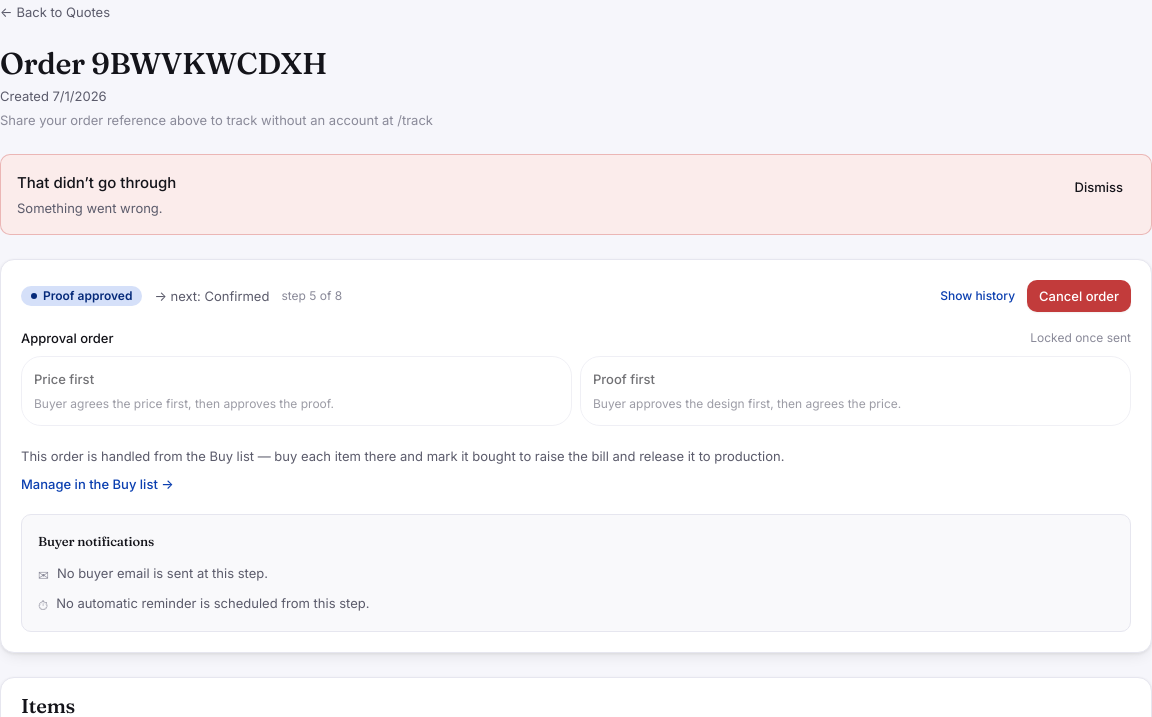
Test case: dismisses the inline write error without touching the order
Expected: the message "That didn’t go through Something went wrong. Dismiss" is shown, [0, 154, 1151, 235]
Step 1. Click the button "Dismiss" → (1099, 187), box [1062, 171, 1135, 203]
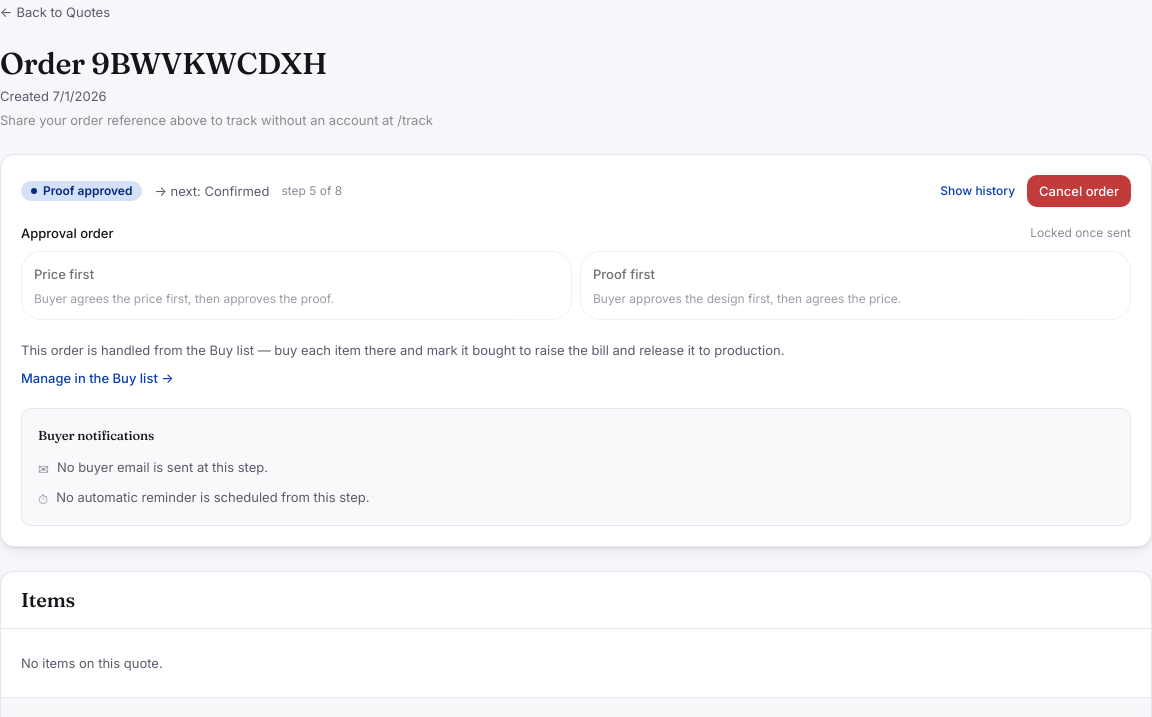
Expected: the heading "Order 9BWVKWCDXH" is shown, [0, 45, 327, 82]
Now the message "That didn’t go through Something went wrong. Dismiss" is gone
